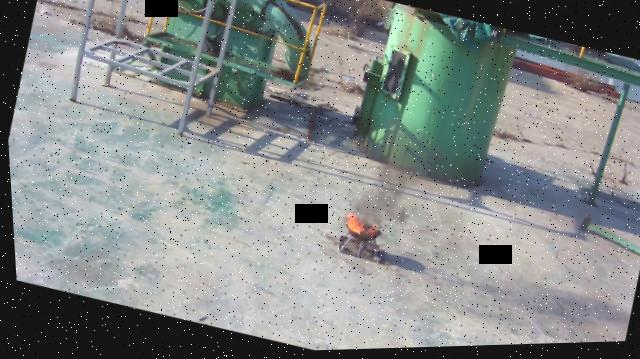fire: (340, 216, 363, 236), (361, 223, 375, 237)
smoke: (343, 164, 426, 237)
